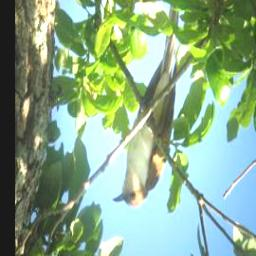Cuckoo: (109, 0, 182, 210)
